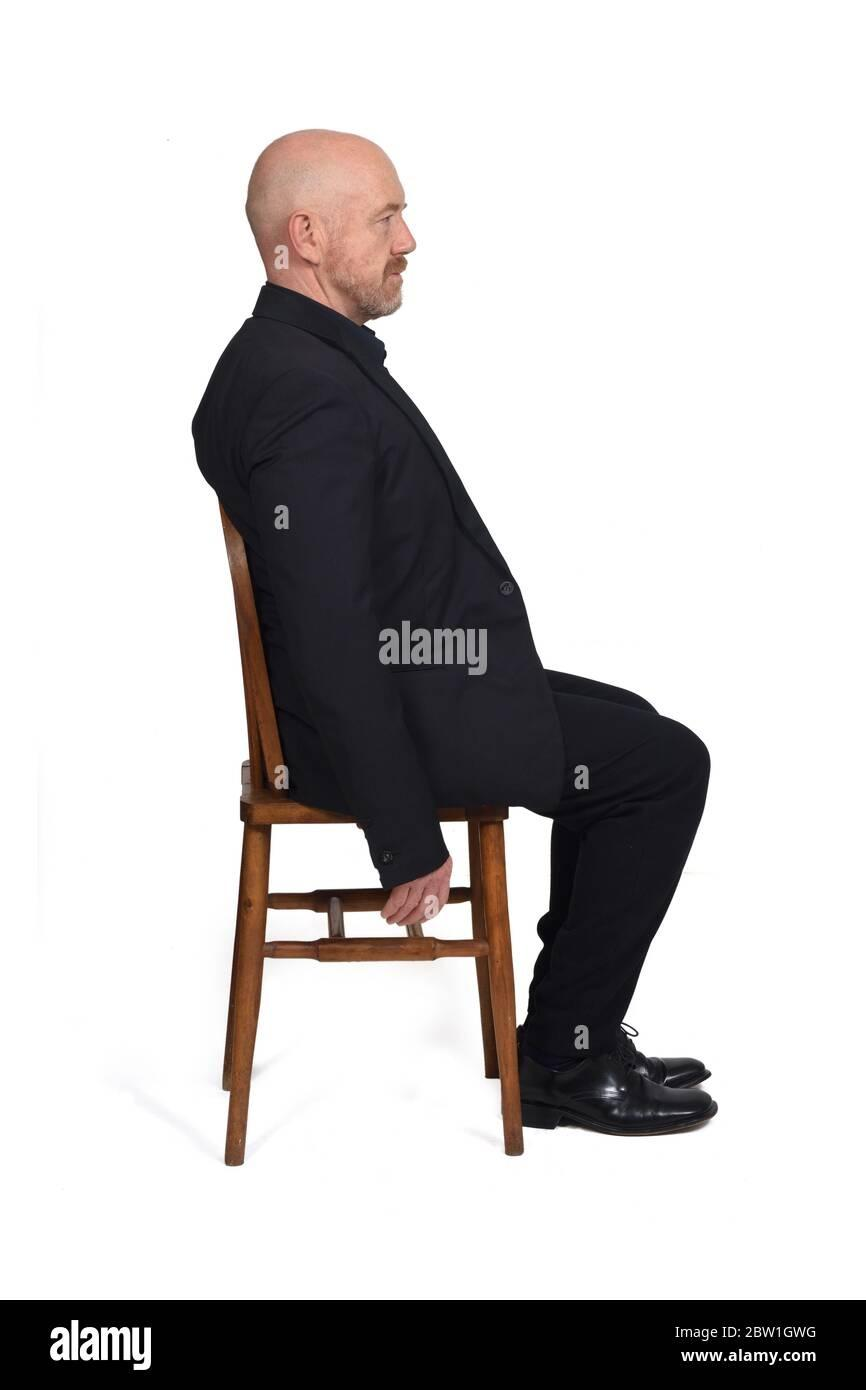good-pose: (0, 0, 866, 1390)
